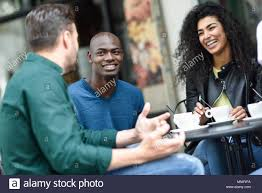person: (16, 5, 82, 119), (178, 9, 251, 87), (78, 28, 139, 113)
